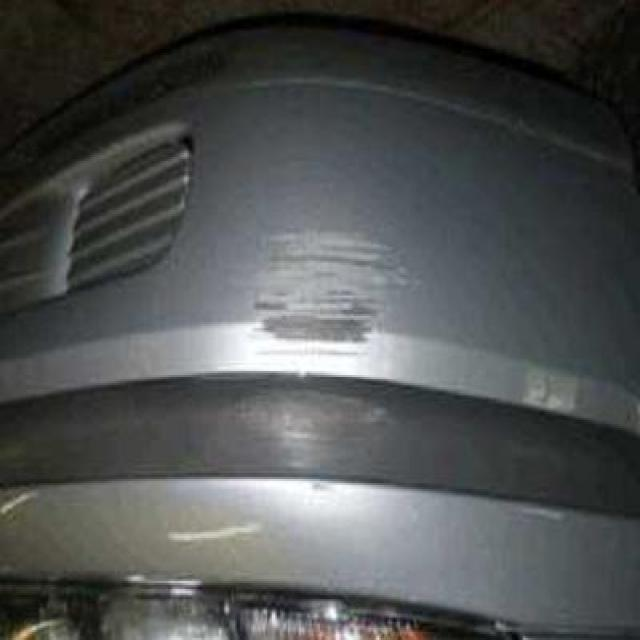scratch: (242, 225, 419, 352), (226, 381, 393, 469)
